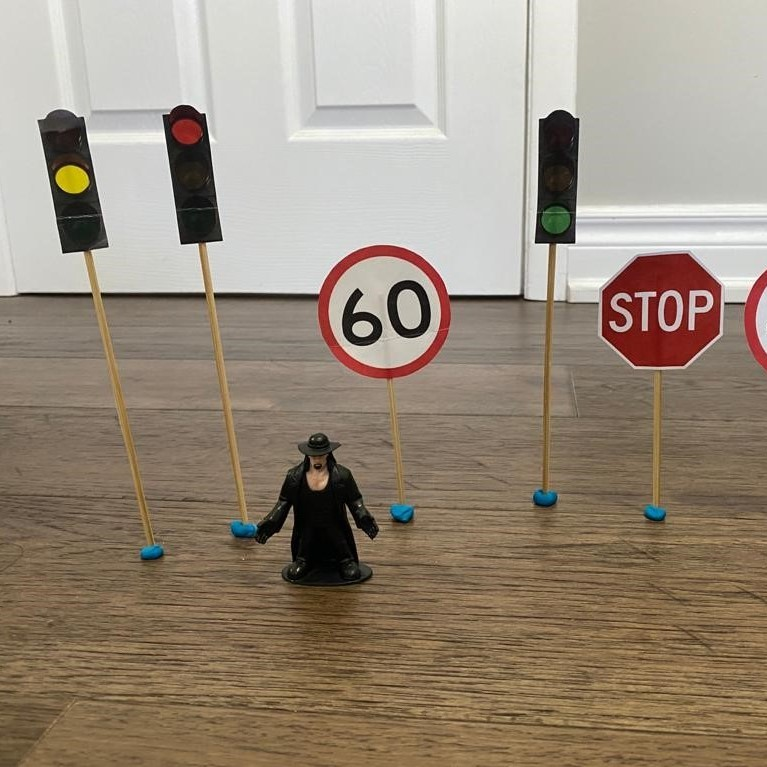Green Traffic Light: (528, 107, 588, 253)
Person: (253, 429, 384, 597)
Red Traffic Light: (153, 104, 230, 248)
Speed Limit 60: (313, 240, 456, 388)
Stop Sign: (595, 248, 729, 377)
Yellow Traffic Light: (29, 109, 115, 257)
